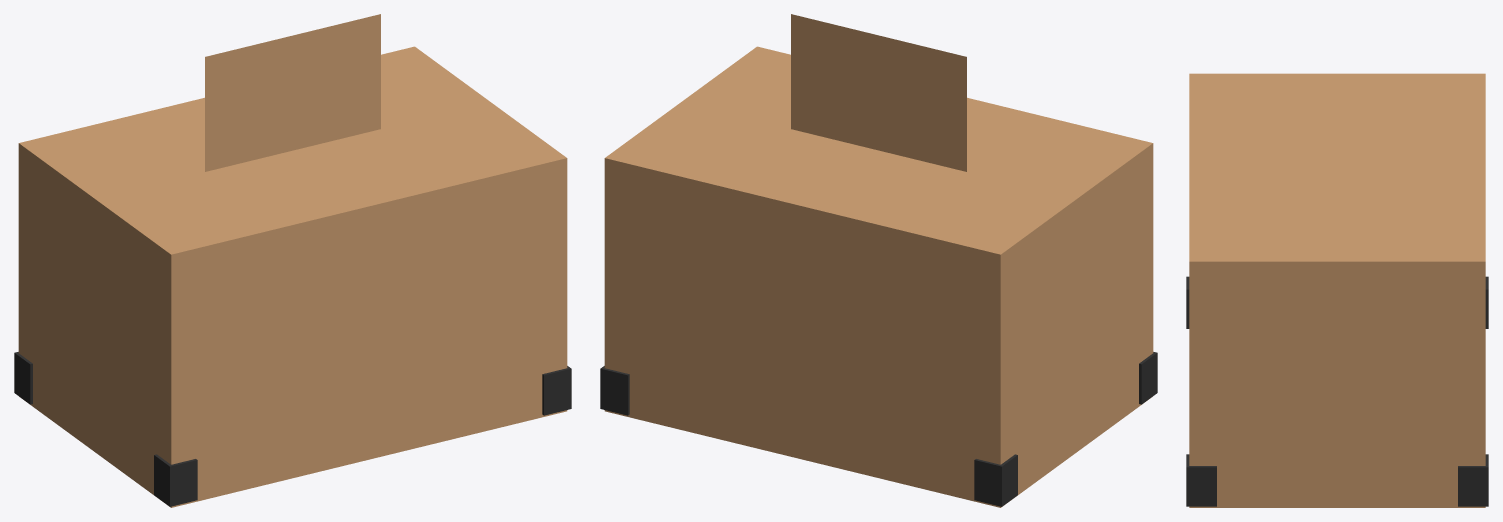
The model's file is ToolBox.glb.
3 views of the same model, side by side, from view 1: azimuth 30°, elevation 25°; view 2: azimuth 150°, elevation 25°; view 3: azimuth 270°, elevation 25° (orthographic). The views are drawn at different scales.
Parts seen in each view (by area): view 1: ToolBoxTray, ToolBoxLid, CornerBracket_2, CornerBracket_3, CornerBracket_0; view 2: ToolBoxTray, ToolBoxLid, CornerBracket_0, CornerBracket_1, CornerBracket_2; view 3: ToolBoxTray, ToolBoxLid, CornerBracket_1, CornerBracket_3.
Boxes of the visible parts, left/top/right/bottom form: ToolBoxTray: left=18, top=143, right=567, bottom=507; ToolBoxLid: left=19, top=14, right=567, bottom=311; CornerBracket_2: left=154, top=454, right=197, bottom=506; CornerBracket_3: left=542, top=366, right=571, bottom=415; CornerBracket_0: left=14, top=352, right=32, bottom=404; ToolBoxTray: left=604, top=143, right=1153, bottom=507; ToolBoxLid: left=605, top=14, right=1152, bottom=254; CornerBracket_0: left=974, top=454, right=1017, bottom=506; CornerBracket_1: left=600, top=366, right=629, bottom=415; CornerBracket_2: left=1139, top=352, right=1157, bottom=404; ToolBoxTray: left=1189, top=261, right=1485, bottom=507; ToolBoxLid: left=1189, top=73, right=1485, bottom=261; CornerBracket_1: left=1458, top=454, right=1488, bottom=506; CornerBracket_3: left=1186, top=454, right=1216, bottom=506.
Size of the model in its own units: 3.65 by 3.2 by 2.45.
